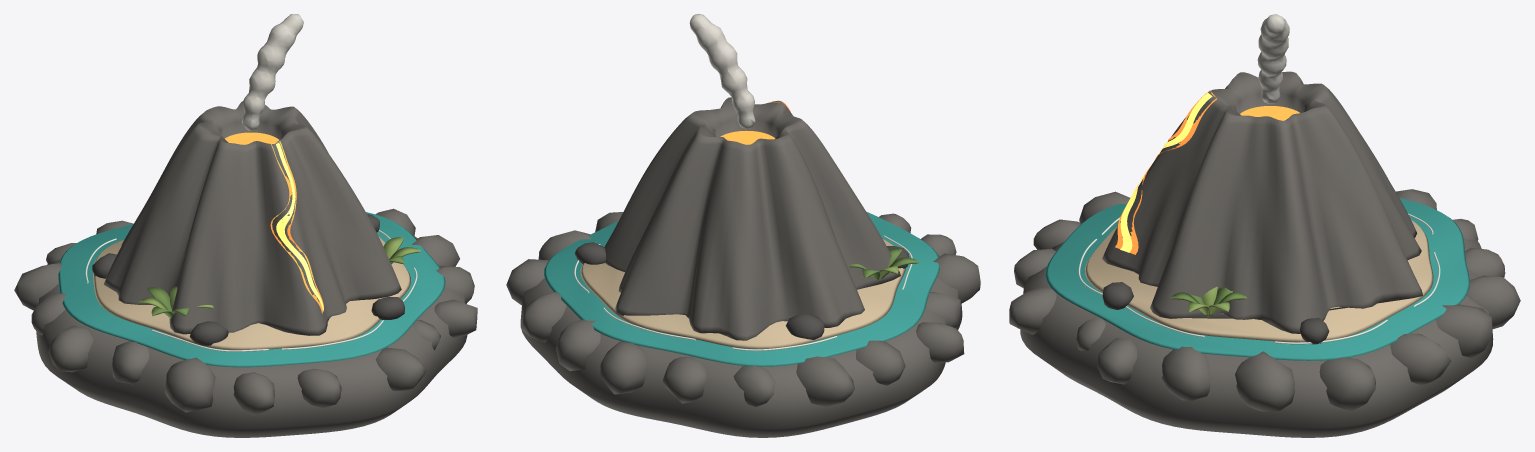
File: volcano-island-v1.fbx
3 views of the same model, side by side, from view 1: azimuth 30°, elevation 25°; view 2: azimuth 150°, elevation 25°; view 3: azimuth 270°, elevation 25° (orthographic). The views are drawn at different scales.
Visible parts, largest first — view 1: Volcano | hollow fluted mountain, Rock | irregular island foundation, Water | enclosed turquoise lagoon, Sand | island shore, Smoke | blended plume.001, Rock | shoreline boulder.011, Rock | shoreline boulder.009, Rock | shoreline boulder.014, Rock | shoreline boulder.012, Rock | shoreline boulder.013, Rock | shoreline boulder.007, Rock | shoreline boulder.010 (+10 smaller); view 2: Volcano | hollow fluted mountain, Rock | irregular island foundation, Water | enclosed turquoise lagoon, Sand | island shore, Smoke | blended plume.001, Rock | shoreline boulder.007, Rock | shoreline boulder.004, Rock | shoreline boulder.003, Rock | shoreline boulder.005, Rock | shoreline boulder.008, Rock | shoreline boulder.002, Rock | shoreline boulder.011 (+9 smaller); view 3: Volcano | hollow fluted mountain, Rock | irregular island foundation, Water | enclosed turquoise lagoon, Sand | island shore, Rock | shoreline boulder, Rock | shoreline boulder.001, Smoke | blended plume.001, Rock | shoreline boulder.017, Rock | shoreline boulder.003, Rock | shoreline boulder.002, Rock | shoreline boulder.004, Rock | shoreline boulder.014 (+11 smaller).
Part boxes in pixels (left/top/right/bottom): Volcano | hollow fluted mountain: left=104, top=100, right=401, bottom=335; Rock | irregular island foundation: left=36, top=235, right=467, bottom=437; Water | enclosed turquoise lagoon: left=58, top=212, right=445, bottom=367; Sand | island shore: left=93, top=236, right=410, bottom=350; Smoke | blended plume.001: left=242, top=14, right=303, bottom=130; Rock | shoreline boulder.011: left=165, top=357, right=215, bottom=412; Rock | shoreline boulder.009: left=48, top=325, right=93, bottom=372; Rock | shoreline boulder.014: left=375, top=347, right=426, bottom=391; Rock | shoreline boulder.012: left=233, top=372, right=274, bottom=415; Rock | shoreline boulder.013: left=297, top=368, right=341, bottom=408; Rock | shoreline boulder.007: left=14, top=263, right=61, bottom=310; Rock | shoreline boulder.010: left=112, top=341, right=149, bottom=384; Volcano | hollow fluted mountain: left=604, top=97, right=900, bottom=340; Rock | irregular island foundation: left=520, top=255, right=962, bottom=437; Water | enclosed turquoise lagoon: left=544, top=211, right=939, bottom=366; Sand | island shore: left=580, top=239, right=905, bottom=349; Smoke | blended plume.001: left=689, top=14, right=755, bottom=128; Rock | shoreline boulder.007: left=796, top=356, right=854, bottom=406; Rock | shoreline boulder.004: left=600, top=341, right=647, bottom=394; Rock | shoreline boulder.003: left=555, top=319, right=600, bottom=370; Rock | shoreline boulder.005: left=662, top=357, right=708, bottom=403; Rock | shoreline boulder.008: left=856, top=340, right=905, bottom=385; Rock | shoreline boulder.002: left=522, top=292, right=566, bottom=342; Rock | shoreline boulder.011: left=933, top=253, right=980, bottom=303; Volcano | hollow fluted mountain: left=1102, top=71, right=1422, bottom=333; Rock | irregular island foundation: left=1020, top=237, right=1493, bottom=437; Water | enclosed turquoise lagoon: left=1045, top=197, right=1469, bottom=360; Sand | island shore: left=1085, top=220, right=1433, bottom=342; Rock | shoreline boulder: left=1235, top=351, right=1295, bottom=411; Rock | shoreline boulder.001: left=1319, top=357, right=1375, bottom=411; Smoke | blended plume.001: left=1257, top=14, right=1289, bottom=103; Rock | shoreline boulder.017: left=1161, top=346, right=1210, bottom=400; Rock | shoreline boulder.003: left=1436, top=304, right=1492, bottom=358; Rock | shoreline boulder.002: left=1390, top=333, right=1451, bottom=385; Rock | shoreline boulder.004: left=1466, top=275, right=1520, bottom=328; Rock | shoreline boulder.014: left=1009, top=287, right=1056, bottom=334.
Bounding box in the file's own units: 172 × 133 × 170.
